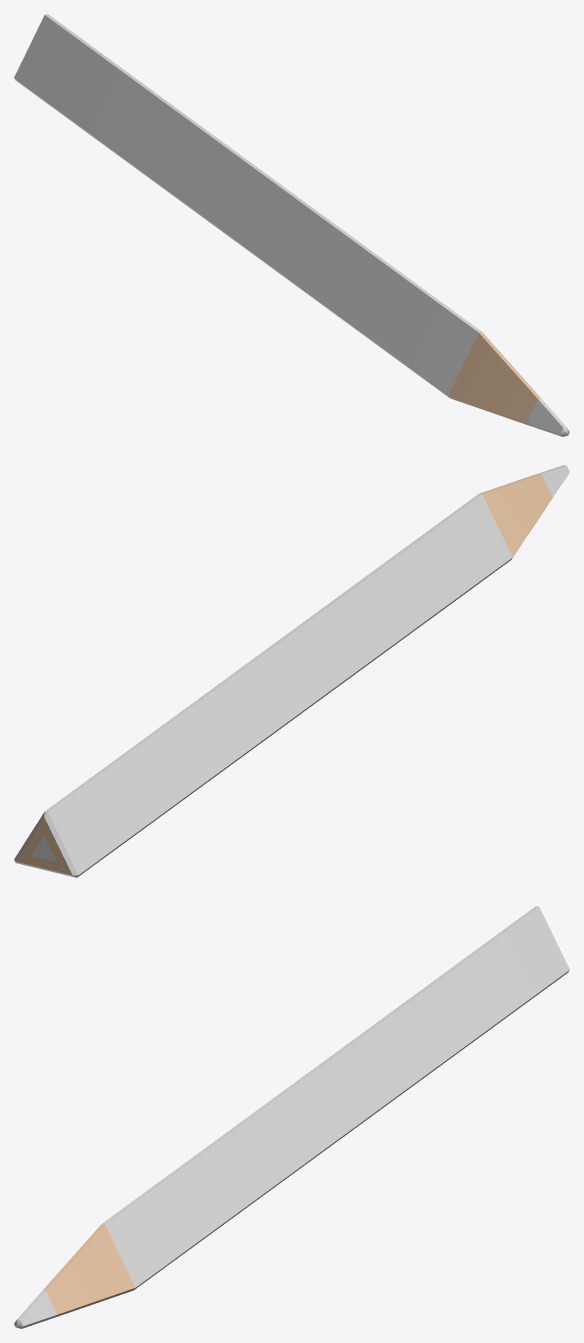
File: Dreieckstift.fbx
3 views of the same model, one above another, from view 1: azimuth 30°, elevation 25°; view 2: azimuth 150°, elevation 25°; view 3: azimuth 330°, elevation 25° (orthographic).
Visible parts, largest first — view 1: Dreieckstift; view 2: Dreieckstift; view 3: Dreieckstift.
Part boxes in pixels (box(x1,y1,x2,y2)): Dreieckstift: box(14, 14, 569, 436); Dreieckstift: box(14, 465, 569, 877); Dreieckstift: box(14, 906, 569, 1328).
Bounding box in the file's own units: 1.23 × 1.06 × 17.19.
